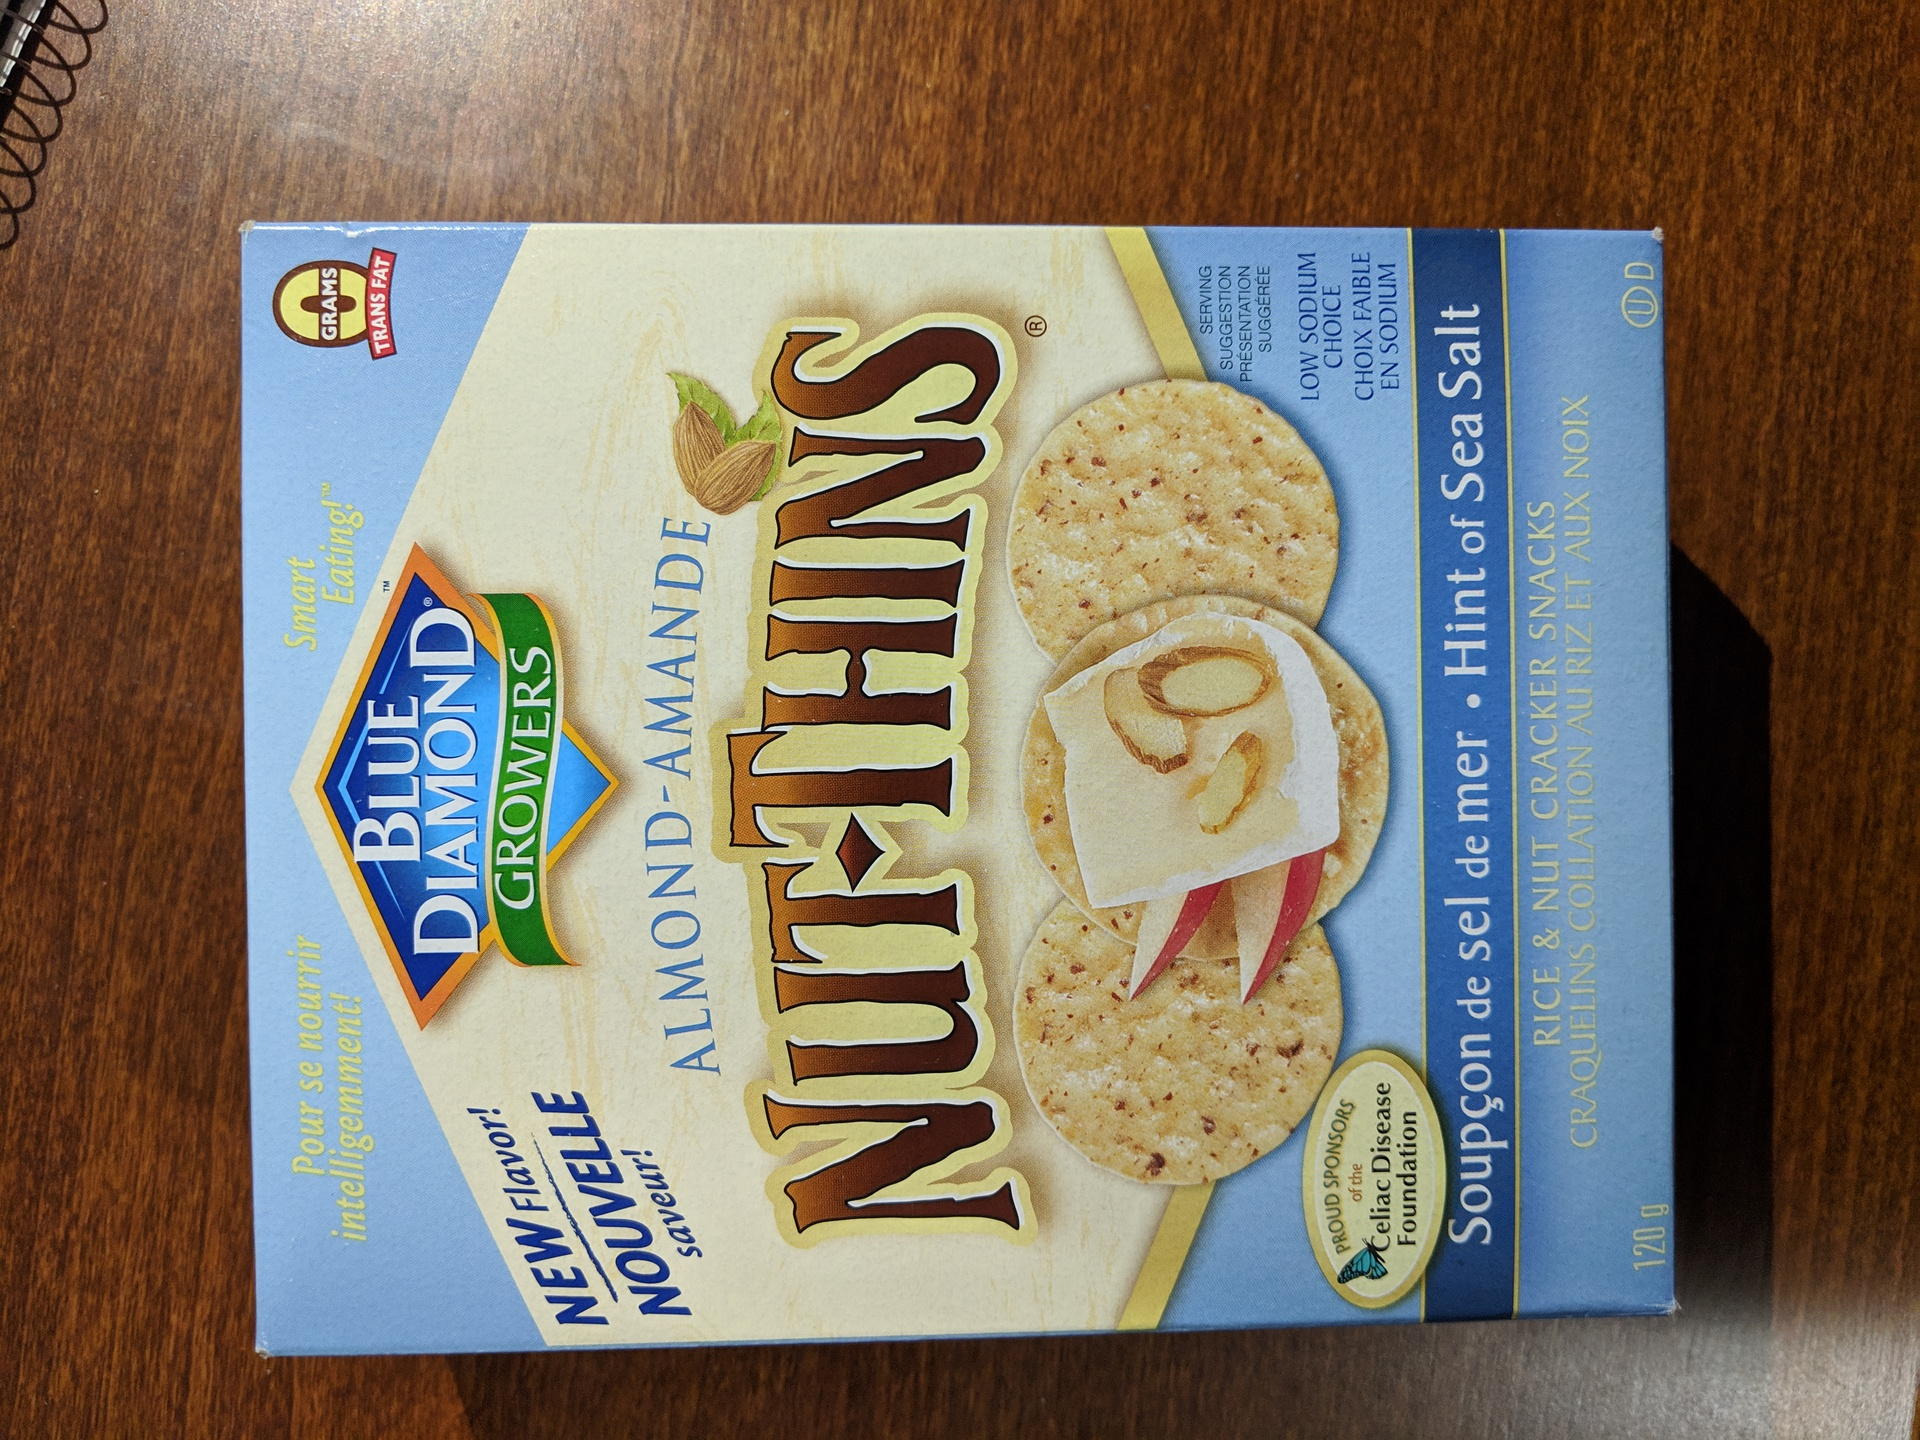blue_diamond_nut_thins_almond_seasalt: (260, 234, 1665, 1313)
